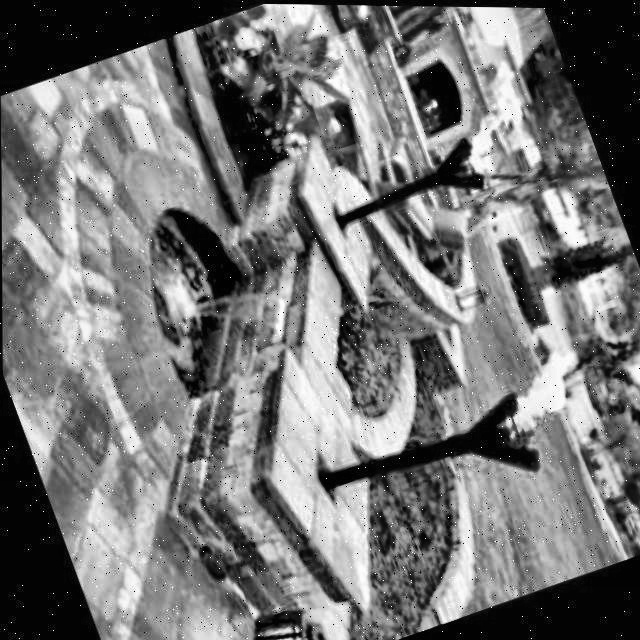Fire: (432, 55, 547, 173), (492, 335, 606, 441)
